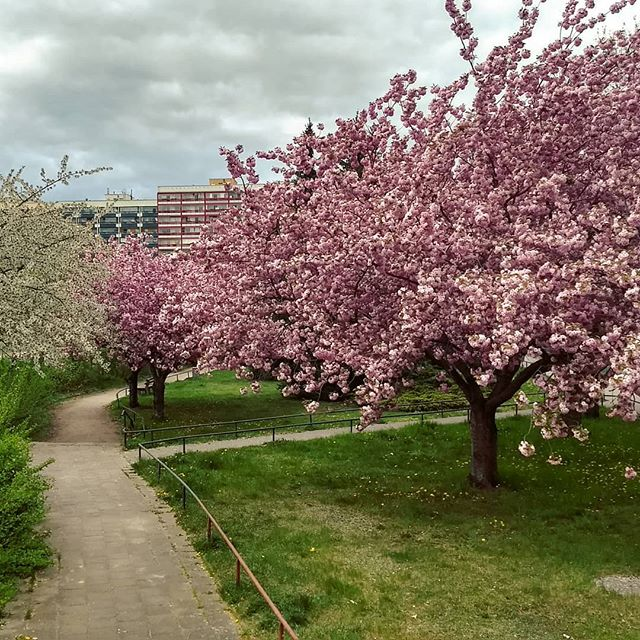building: (69, 176, 238, 264)
flowers: (1, 72, 640, 397)
grass: (181, 423, 640, 640)
sky: (12, 1, 455, 187)
